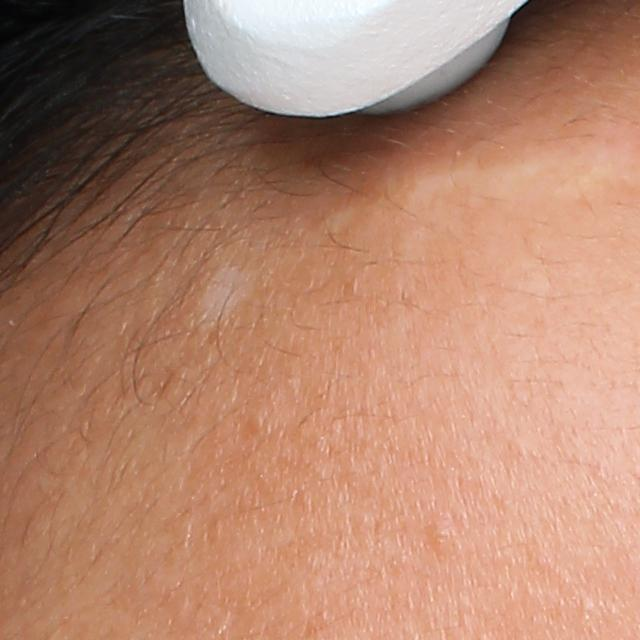comedo: (426, 522, 460, 558)
other: (196, 260, 256, 328)
